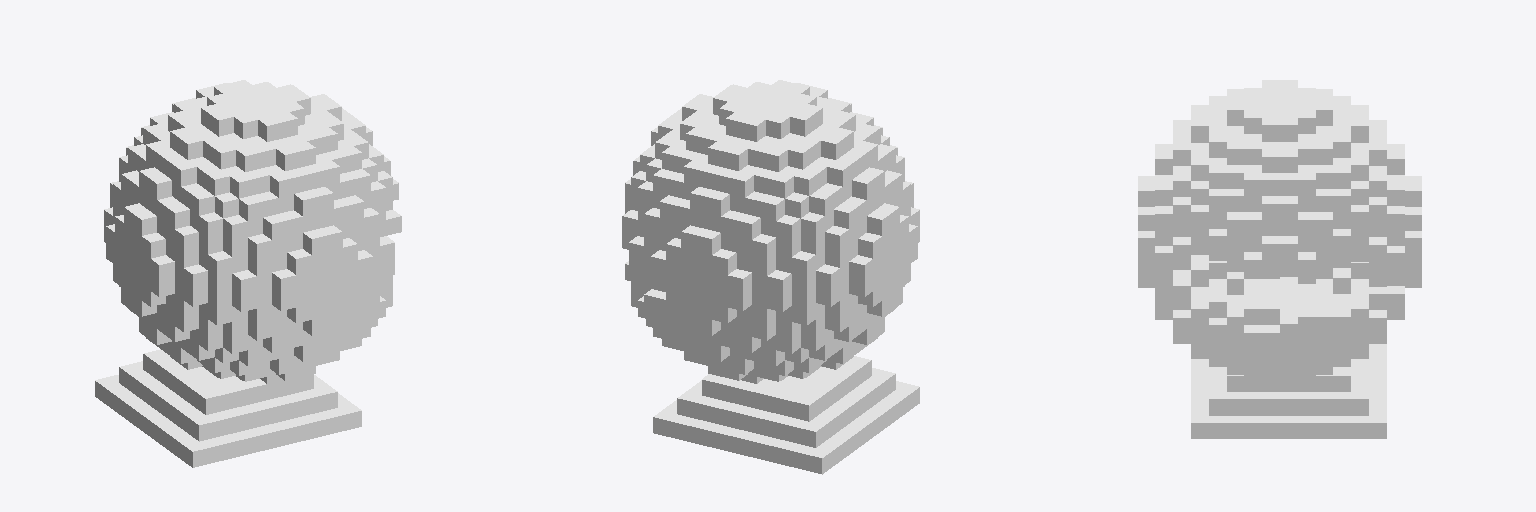
The model's file is pacman2.obj.
3 views of the same model, side by side, from view 1: azimuth 30°, elevation 25°; view 2: azimuth 150°, elevation 25°; view 3: azimuth 270°, elevation 25° (orthographic).
Visible parts, largest first — view 1: object 1; view 2: object 1; view 3: object 1.
Boxes of the visible parts, x1,y1,x2,y2 form: object 1: [95, 80, 401, 467]; object 1: [622, 80, 919, 474]; object 1: [1138, 80, 1421, 438].
Bounding box in the file's own units: 1.6 × 1.9 × 1.6.